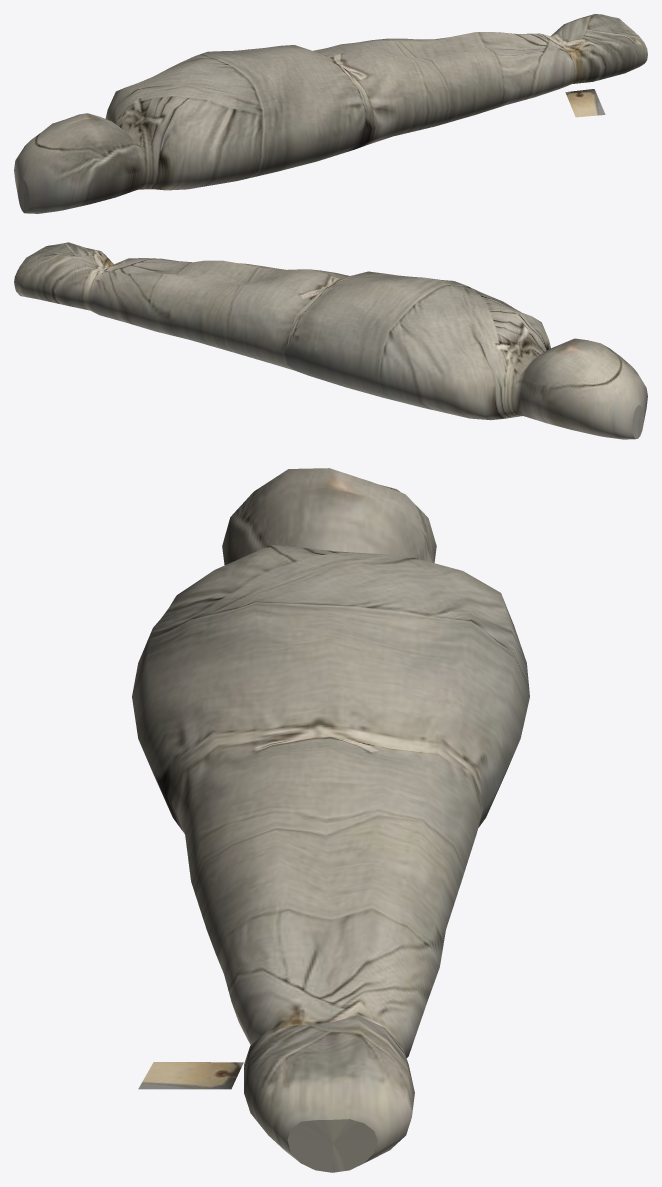
File: yolcu.glb
The picture shows the model from 3 angles, top to bottom: view 1: azimuth 30°, elevation 25°; view 2: azimuth 150°, elevation 25°; view 3: azimuth 270°, elevation 25°; orthographic projection. The views are drawn at different scales.
Parts seen in each view (by area): view 1: yolcu, etiket; view 2: yolcu; view 3: yolcu, etiket.
Part boxes in pixels (bbox=[...]): yolcu: bbox=[14, 14, 647, 213]; etiket: bbox=[565, 89, 605, 117]; yolcu: bbox=[14, 242, 647, 439]; yolcu: bbox=[132, 468, 529, 1172]; etiket: bbox=[138, 1062, 243, 1089].
Bounding box in the file's own units: 1.94 × 0.2824 × 0.5463.
2 materials, 2 textured.
